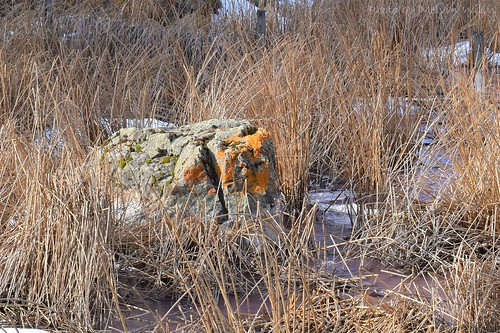rocks: (71, 106, 303, 263)
vegetation: (2, 1, 498, 331)
